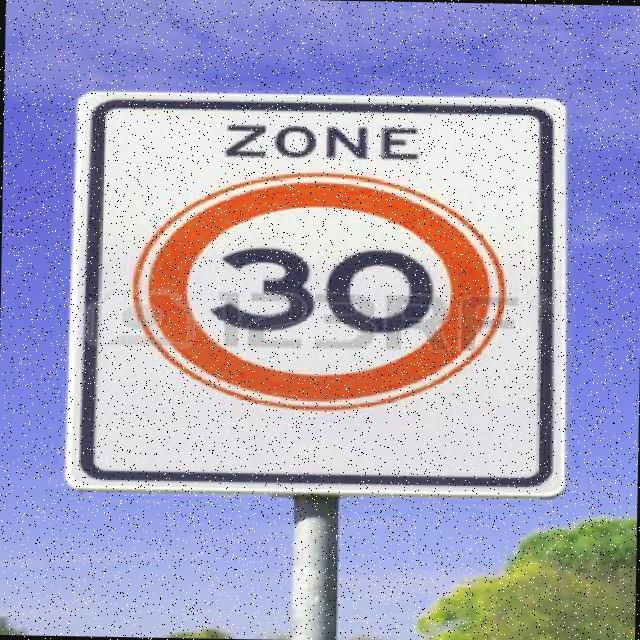Ograniczenie predkosci do 30: (132, 170, 514, 406)
